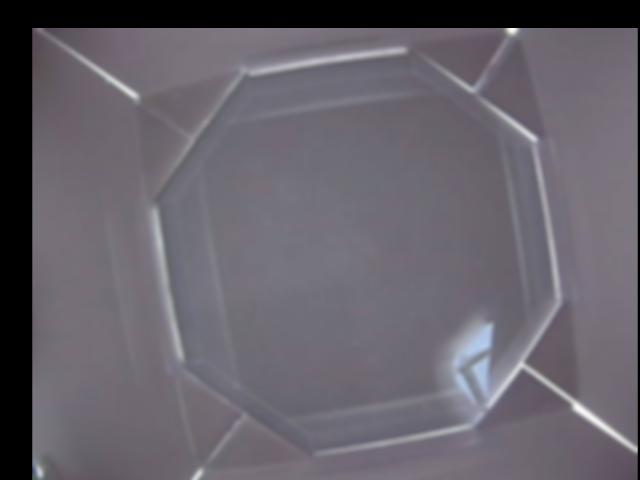China: (453, 321, 493, 410)
